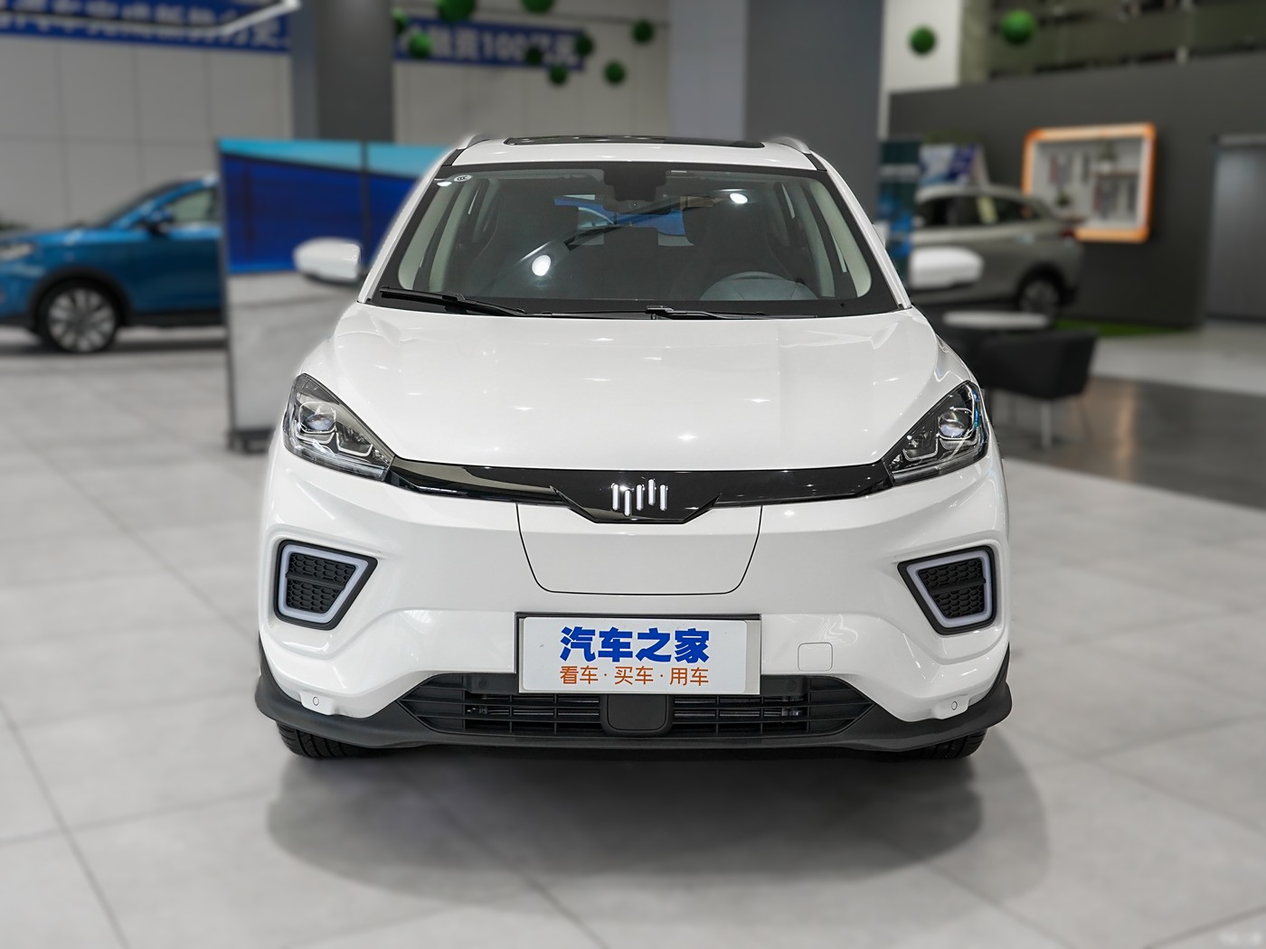WELTMEISTER: (613, 480, 667, 517)
